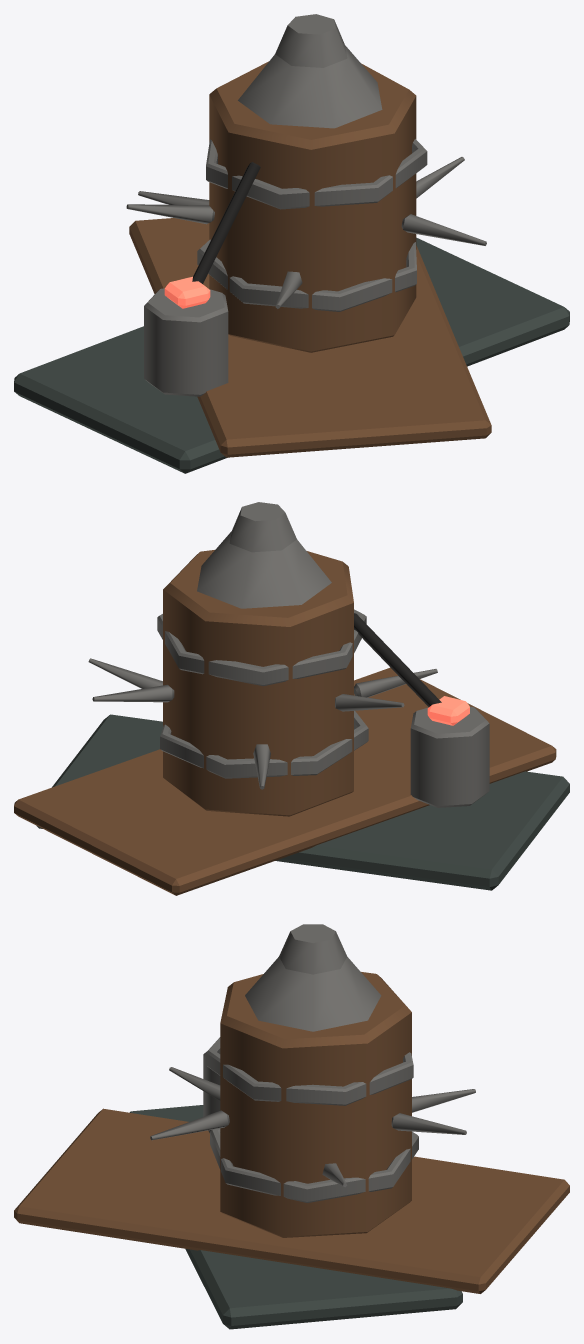
Rendered from R4D_ExplosiveTrap.fbx.
The picture shows the model from 3 angles, top to bottom: view 1: azimuth 30°, elevation 25°; view 2: azimuth 150°, elevation 25°; view 3: azimuth 270°, elevation 25°; orthographic projection. The views are drawn at different scales.
Visible parts, largest first — view 1: R4D_ExplosiveTrap_Body, R4D_ExplosiveTrap_Lamp; view 2: R4D_ExplosiveTrap_Body, R4D_ExplosiveTrap_Lamp; view 3: R4D_ExplosiveTrap_Body.
Part boxes in pixels (left/top/right/bottom): R4D_ExplosiveTrap_Body: left=14, top=14, right=569, bottom=473; R4D_ExplosiveTrap_Lamp: left=164, top=276, right=210, bottom=308; R4D_ExplosiveTrap_Body: left=14, top=502, right=569, bottom=895; R4D_ExplosiveTrap_Lamp: left=427, top=696, right=469, bottom=725; R4D_ExplosiveTrap_Body: left=14, top=924, right=569, bottom=1329.
Bounding box in the file's own units: 0.452 × 0.285 × 0.476.
